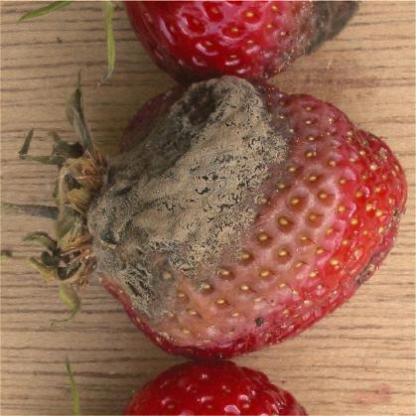Strawberry_Gray_Mold: (58, 76, 410, 352), (242, 0, 366, 81)
